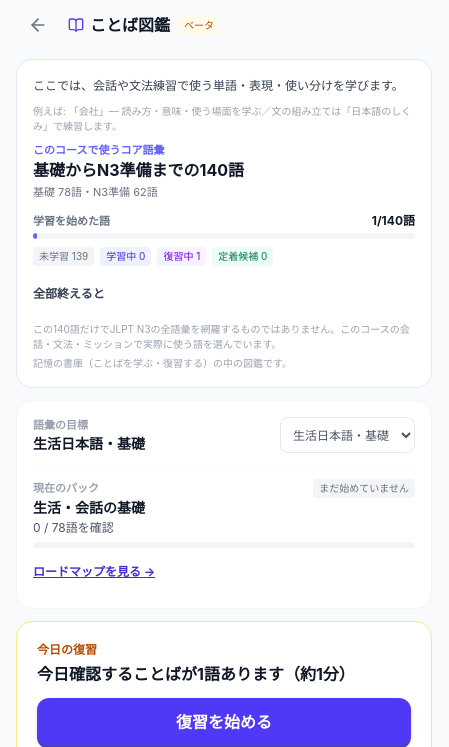
Test: 復習→完了画面（§16-§17） › 復習を始めて全問終えると完了画面（今日できたこと・次の復習）が出る
Click the button "復習を始める".
click(224, 722)  # box 37,698 -> 411,746
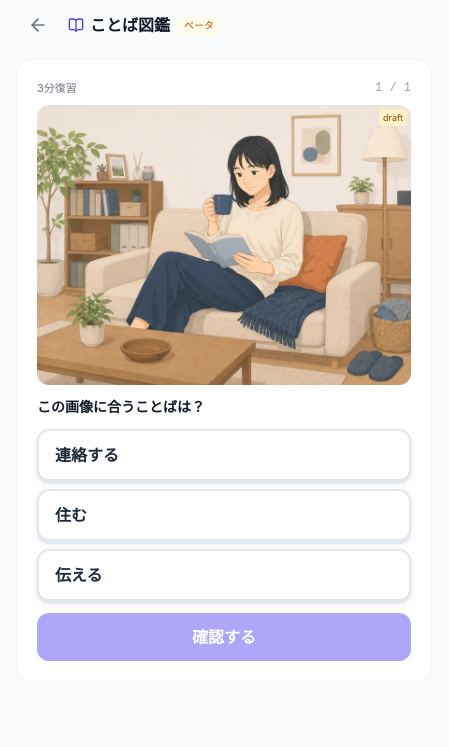
Expected: the button "確認する" is shown, 37,613 -> 411,661
Click the button "連絡する".
click(87, 455)  # box 37,429 -> 411,481
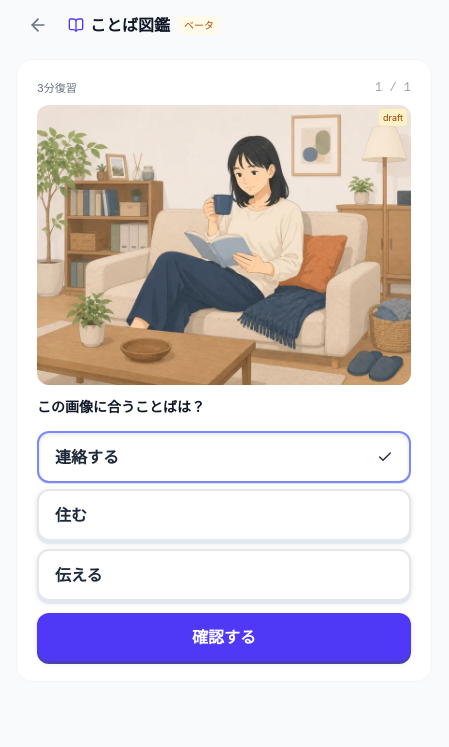
Click the button "確認する".
click(224, 637)  # box 37,613 -> 411,661
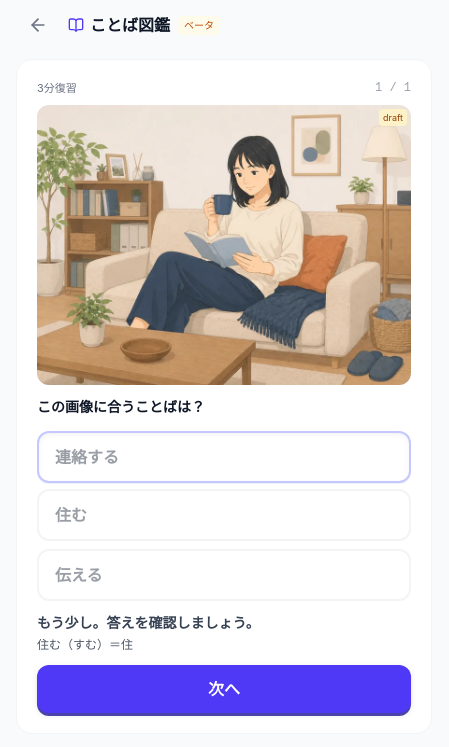
Click the button "次へ".
click(224, 689)  # box 37,665 -> 411,713
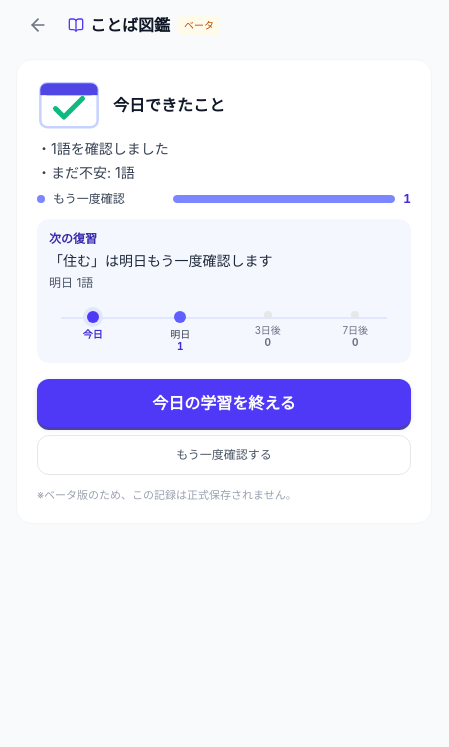
Expected: the heading "今日できたこと" is shown, 113,94 -> 225,116
Expected: the text "次の復習" is shown, 49,230 -> 97,246
Expected: the button "今日の学習を終える" is shown, 37,378 -> 411,426
